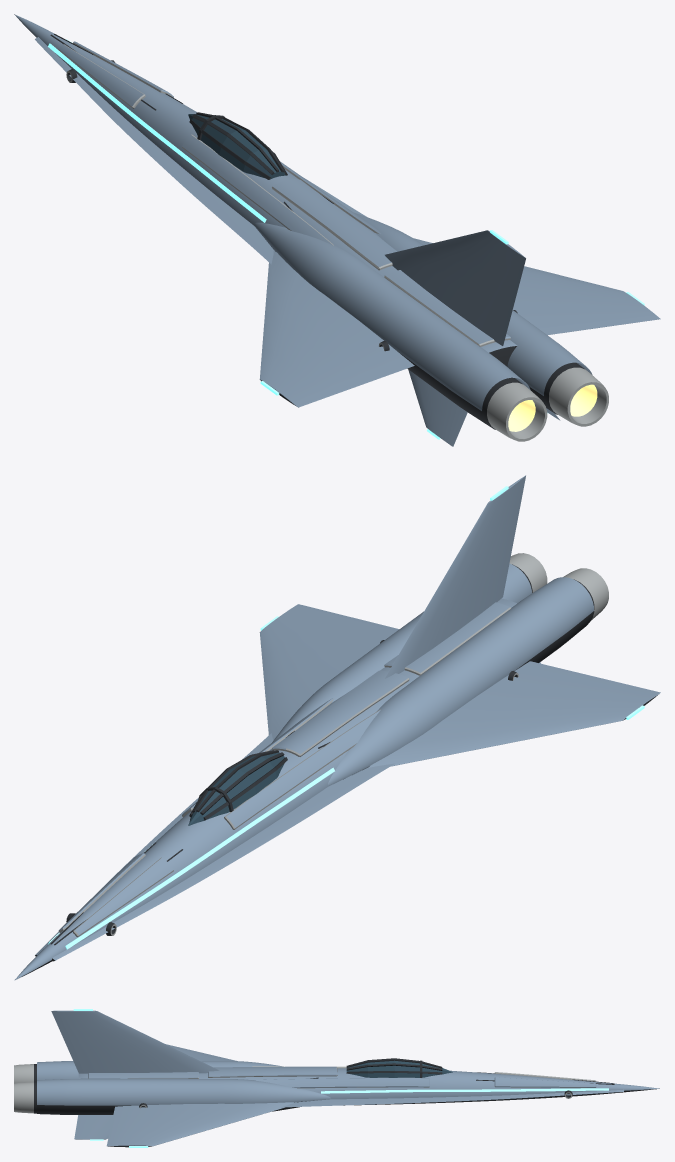
The model's file is kestrel.glb.
The picture shows the model from 3 angles, top to bottom: view 1: azimuth 30°, elevation 25°; view 2: azimuth 150°, elevation 25°; view 3: azimuth 270°, elevation 25°; orthographic projection. The views are drawn at different scales.
Parts seen in each view (by area): view 1: Hull_Kestrel; view 2: Hull_Kestrel; view 3: Hull_Kestrel.
Part boxes in pixels (box(x1,y1,x2,y2)): Hull_Kestrel: box(14, 14, 660, 446); Hull_Kestrel: box(14, 475, 660, 980); Hull_Kestrel: box(14, 1009, 659, 1147).
Bounding box in the file's own units: 27.34 × 13.84 × 70.
